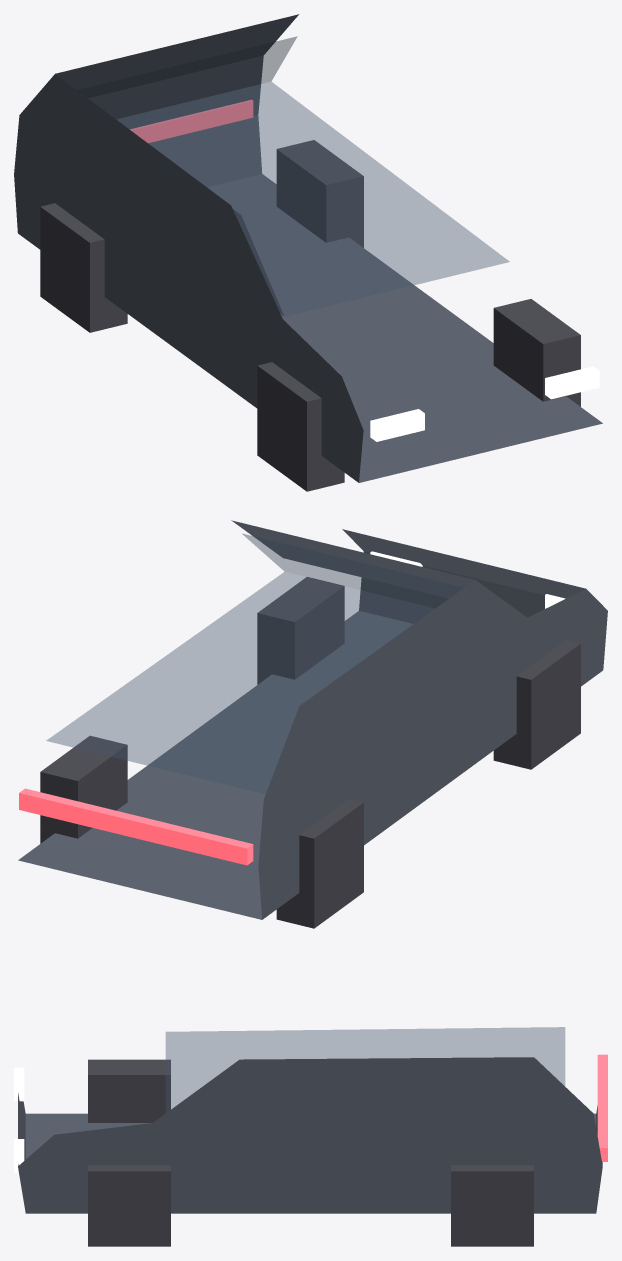
File: innova.glb
The picture shows the model from 3 angles, top to bottom: view 1: azimuth 30°, elevation 25°; view 2: azimuth 150°, elevation 25°; view 3: azimuth 270°, elevation 25°; orthographic projection. The views are drawn at different scales.
Visible parts, largest first — view 1: mpv_body, cabin_glass, wheel_0, wheel_2, wheel_3, wheel_1, taillight, headlight_L, headlight_R; view 2: mpv_body, cabin_glass, wheel_2, wheel_0, wheel_1, wheel_3, taillight; view 3: mpv_body, cabin_glass, wheel_1, wheel_3, wheel_0, taillight.
Boxes of the visible parts, x1,y1,x2,y2 form: mpv_body: (14, 14, 602, 482); cabin_glass: (77, 36, 509, 316); wheel_0: (257, 362, 344, 491); wheel_2: (40, 203, 127, 332); wheel_3: (276, 140, 363, 247); wheel_1: (493, 299, 580, 406); taillight: (130, 99, 253, 142); headlight_L: (370, 409, 424, 441); headlight_R: (545, 366, 599, 399); mpv_body: (18, 520, 607, 919); cabin_glass: (46, 533, 463, 793); wheel_2: (276, 799, 363, 928); wheel_0: (493, 640, 580, 769); wheel_1: (257, 577, 344, 684); wheel_3: (40, 736, 127, 843); taillight: (19, 788, 253, 865); mpv_body: (18, 1057, 602, 1213); cabin_glass: (166, 1027, 564, 1112); wheel_1: (88, 1165, 170, 1246); wheel_3: (451, 1165, 533, 1246); wheel_0: (88, 1059, 170, 1122); taillight: (597, 1054, 607, 1161).
Bounding box in the file's own units: 2.04 × 1.56 × 4.58.
